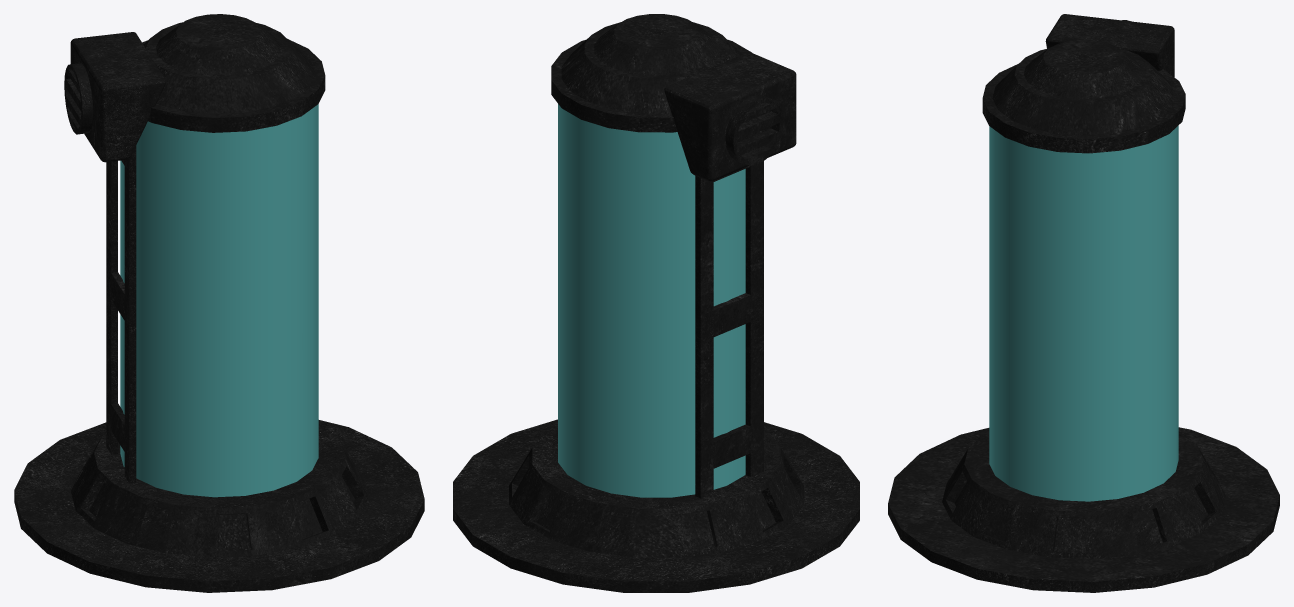
Rendered from incubator.fbx.
3 views of the same model, side by side, from view 1: azimuth 30°, elevation 25°; view 2: azimuth 150°, elevation 25°; view 3: azimuth 270°, elevation 25° (orthographic). The views are drawn at different scales.
Visible parts, largest first — view 1: polySurface10, polySurface11, polySurface3, polySurface2, polySurface8, polySurface6, polySurface1, polySurface5, polySurface7; view 2: polySurface10, polySurface11, polySurface3, polySurface2, polySurface6, polySurface8, polySurface1, polySurface7, polySurface5; view 3: polySurface10, polySurface11, polySurface3, polySurface2.
Boxes of the visible parts, x1,y1,x2,y2 form: polySurface10: (120,104,318,497); polySurface11: (14,420,424,592); polySurface3: (142,14,325,132); polySurface2: (70,32,166,162); polySurface8: (124,146,136,483); polySurface6: (106,161,117,454); polySurface1: (64,63,93,134); polySurface5: (107,398,126,454); polySurface7: (110,272,128,325); polySurface10: (558,104,745,497); polySurface11: (453,419,859,592); polySurface3: (551,14,751,132); polySurface2: (664,52,796,181); polySurface6: (695,176,713,498); polySurface8: (745,161,763,476); polySurface1: (725,94,783,165); polySurface7: (705,293,760,340); polySurface5: (702,424,750,473); polySurface10: (989,125,1178,501); polySurface11: (888,427,1279,592); polySurface3: (982,40,1185,153); polySurface2: (1045,14,1174,77).
Size of the model in its own units: 419 by 534 by 419.
2 materials, 1 textured.
